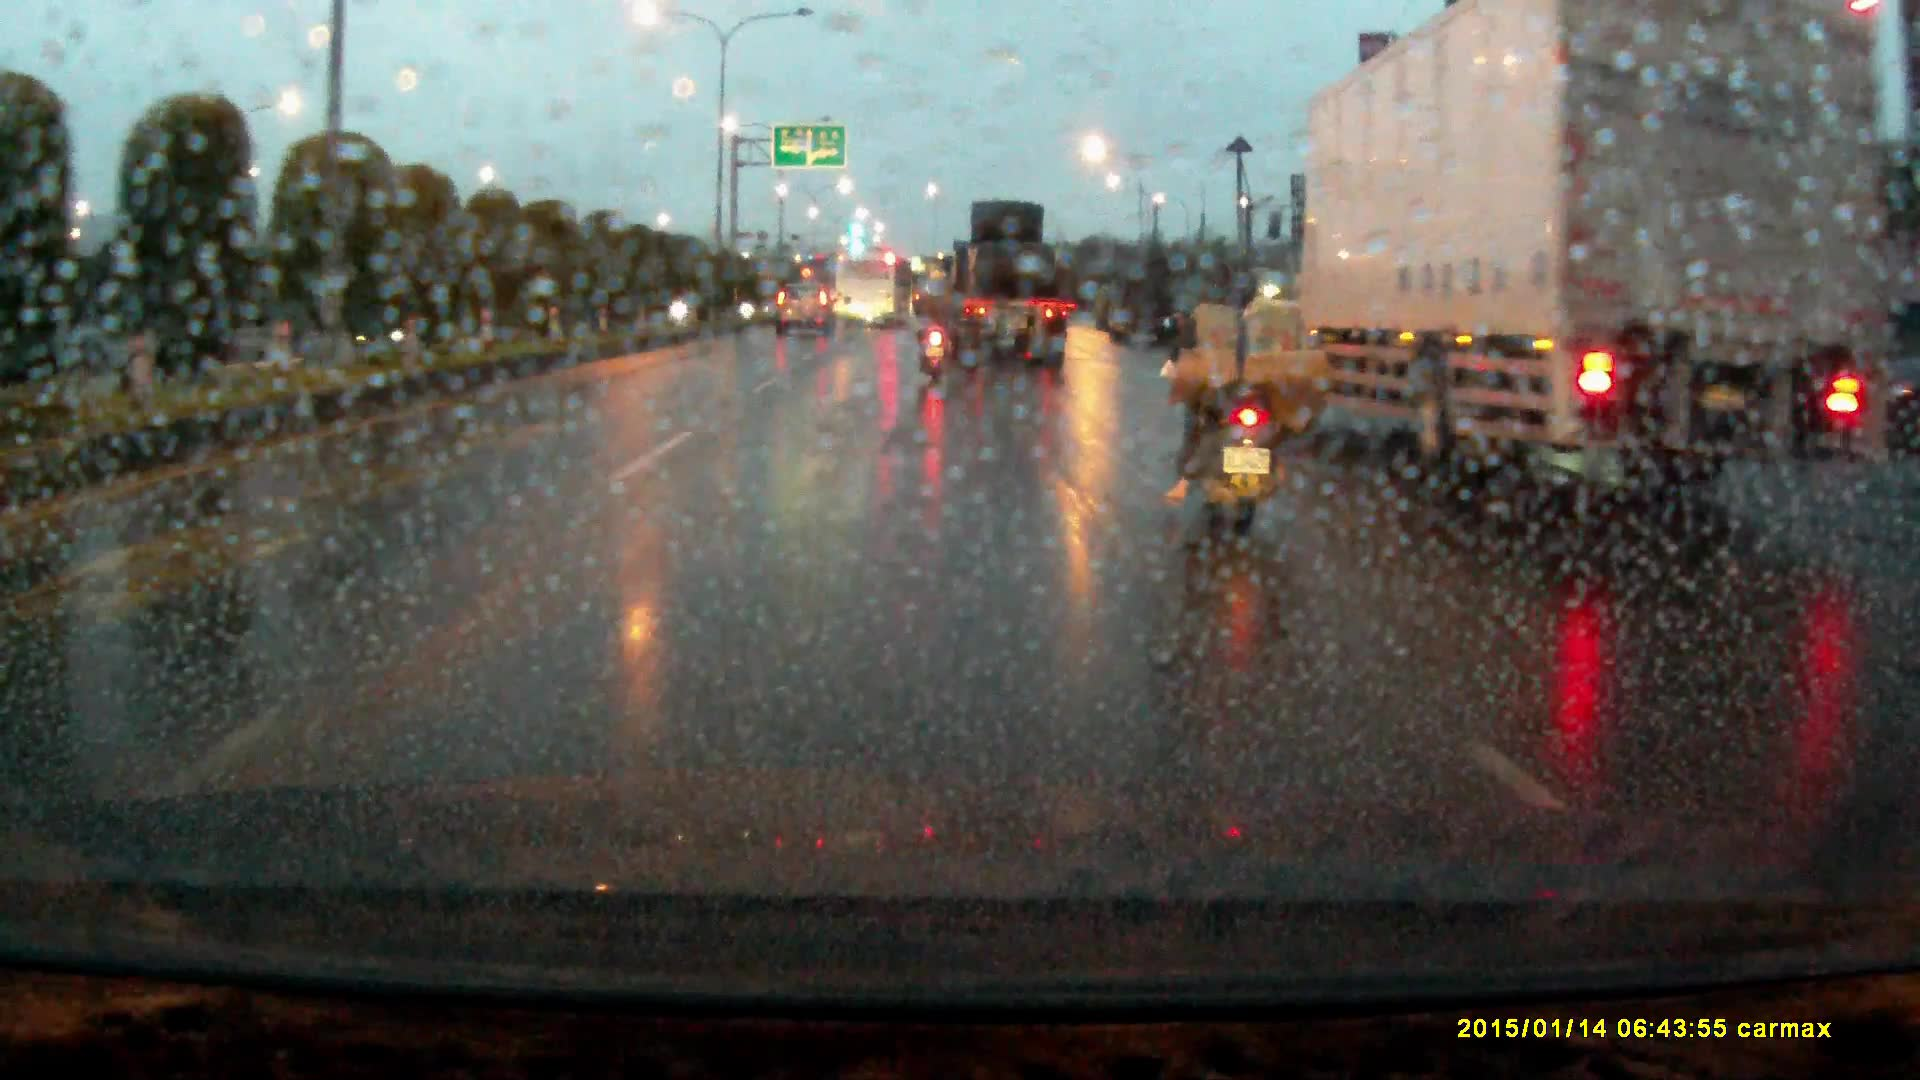rider: (1163, 253, 1340, 564), (912, 287, 955, 390)
vehicle: (1291, 1, 1882, 497), (932, 199, 1067, 368), (1094, 263, 1176, 349), (831, 259, 901, 334), (775, 280, 836, 342)
